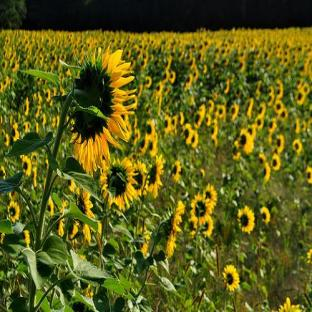sunflower: (37, 50, 135, 234)
